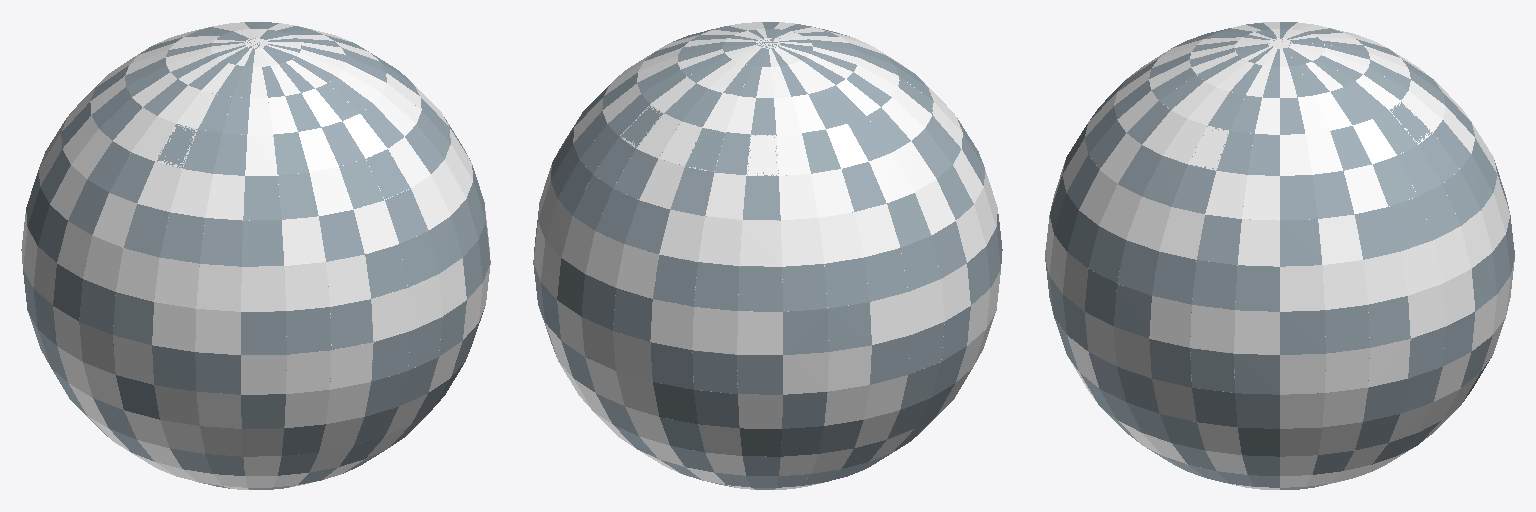
Rendered from ball_0_center.obj.
3 renders of one model, left to right at view 1: azimuth 30°, elevation 25°; view 2: azimuth 150°, elevation 25°; view 3: azimuth 270°, elevation 25°, orthographic.
Visible parts, largest first — view 1: Mesh1 PoolTable_CueBall_01_1 Component1 Model; view 2: Mesh1 PoolTable_CueBall_01_1 Component1 Model; view 3: Mesh1 PoolTable_CueBall_01_1 Component1 Model.
Boxes of the visible parts, x1,y1,x2,y2 form: Mesh1 PoolTable_CueBall_01_1 Component1 Model: [21, 22, 490, 489]; Mesh1 PoolTable_CueBall_01_1 Component1 Model: [533, 22, 1002, 489]; Mesh1 PoolTable_CueBall_01_1 Component1 Model: [1045, 22, 1514, 489].
Bounding box in the file's own units: 1.99 × 2 × 2.